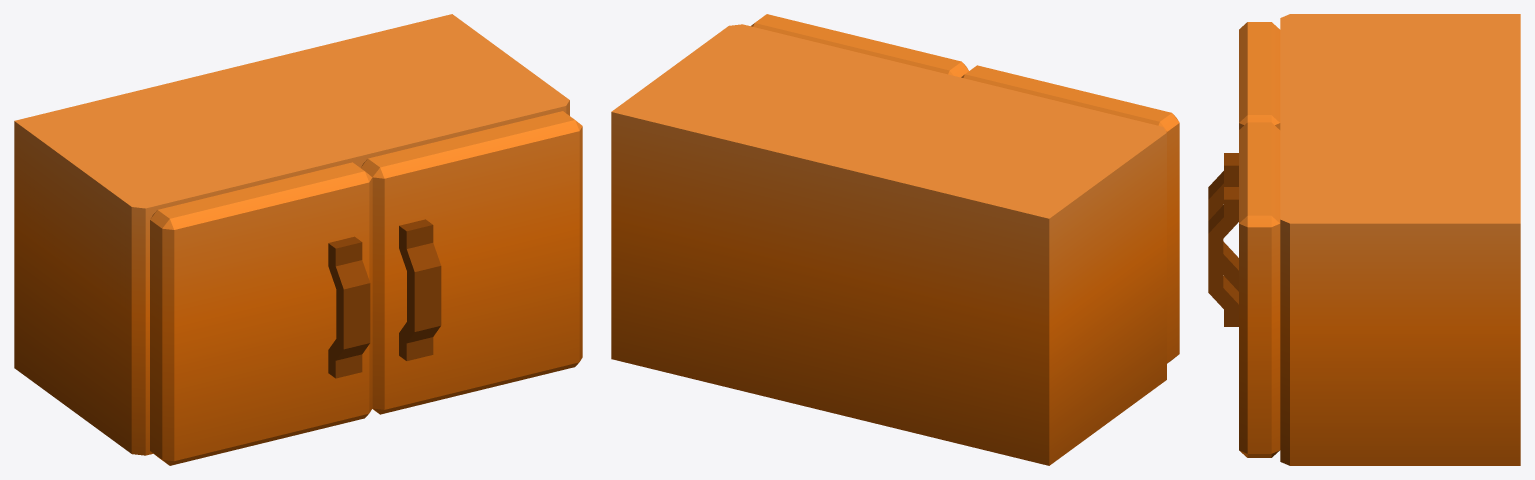
File: Cabinet_01_S_C03.fbx
3 views of the same model, side by side, from view 1: azimuth 30°, elevation 25°; view 2: azimuth 150°, elevation 25°; view 3: azimuth 270°, elevation 25° (orthographic).
Parts seen in each view (by area): view 1: Cabinet_01_S_C03, Cabinet_01_S_C03_Door_R, Cabinet_01_S_C03_Door_L; view 2: Cabinet_01_S_C03, Cabinet_01_S_C03_Door_R, Cabinet_01_S_C03_Door_L; view 3: Cabinet_01_S_C03, Cabinet_01_S_C03_Door_L, Cabinet_01_S_C03_Door_R.
Part boxes in pixels (box(x1,y1,x2,y2)): Cabinet_01_S_C03: box(14, 14, 569, 455); Cabinet_01_S_C03_Door_R: box(150, 162, 372, 465); Cabinet_01_S_C03_Door_L: box(361, 111, 582, 414); Cabinet_01_S_C03: box(611, 24, 1166, 465); Cabinet_01_S_C03_Door_R: box(961, 65, 1179, 363); Cabinet_01_S_C03_Door_L: box(751, 14, 968, 77); Cabinet_01_S_C03: box(1280, 14, 1520, 465); Cabinet_01_S_C03_Door_L: box(1208, 122, 1280, 457); Cabinet_01_S_C03_Door_R: box(1208, 22, 1280, 291).
Size of the model in its own units: 100 by 53.91 by 62.96.
